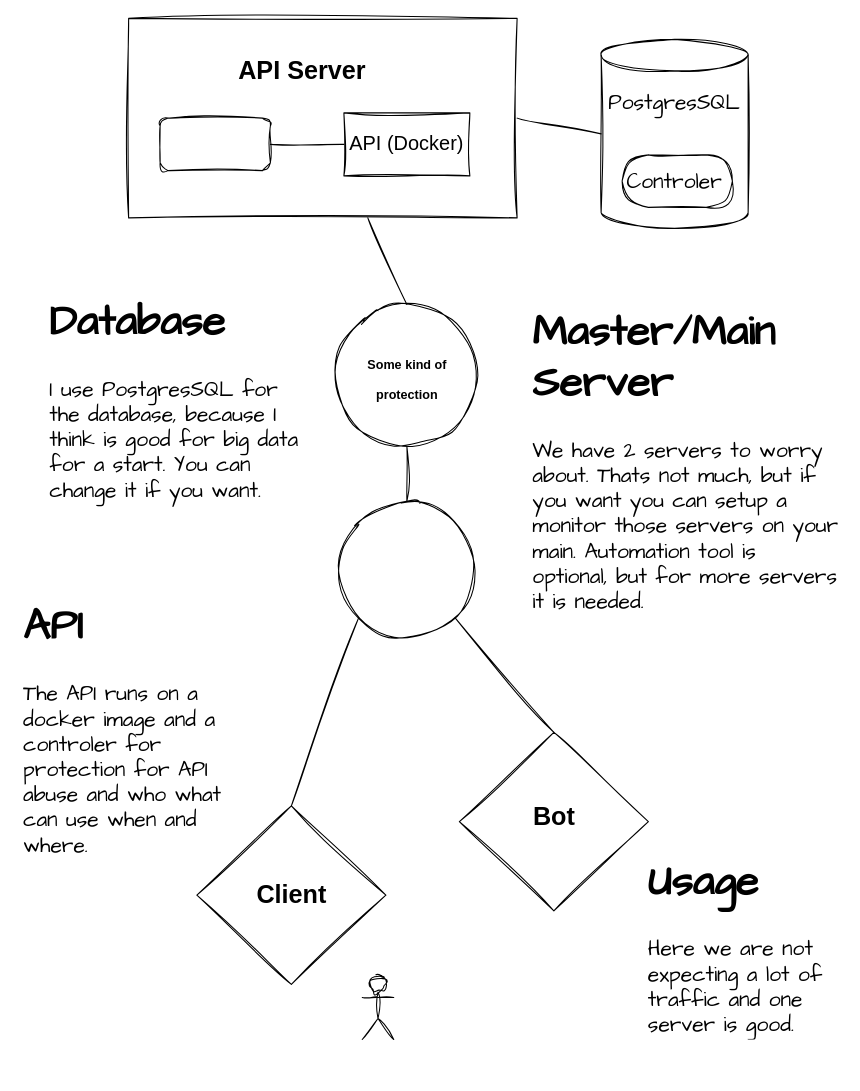
Image size: 860x1091. Some labels were removed from this diagram. Each missing label, with the centre of its shape:
"Actor" belongs at point 377,1007.
"API request/respose" belongs at point 406,569.
"Contoler" belongs at point 214,144.
